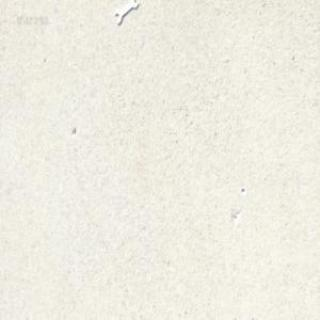Wrenchtrack_idkeyframe: (114, 0, 137, 23)
